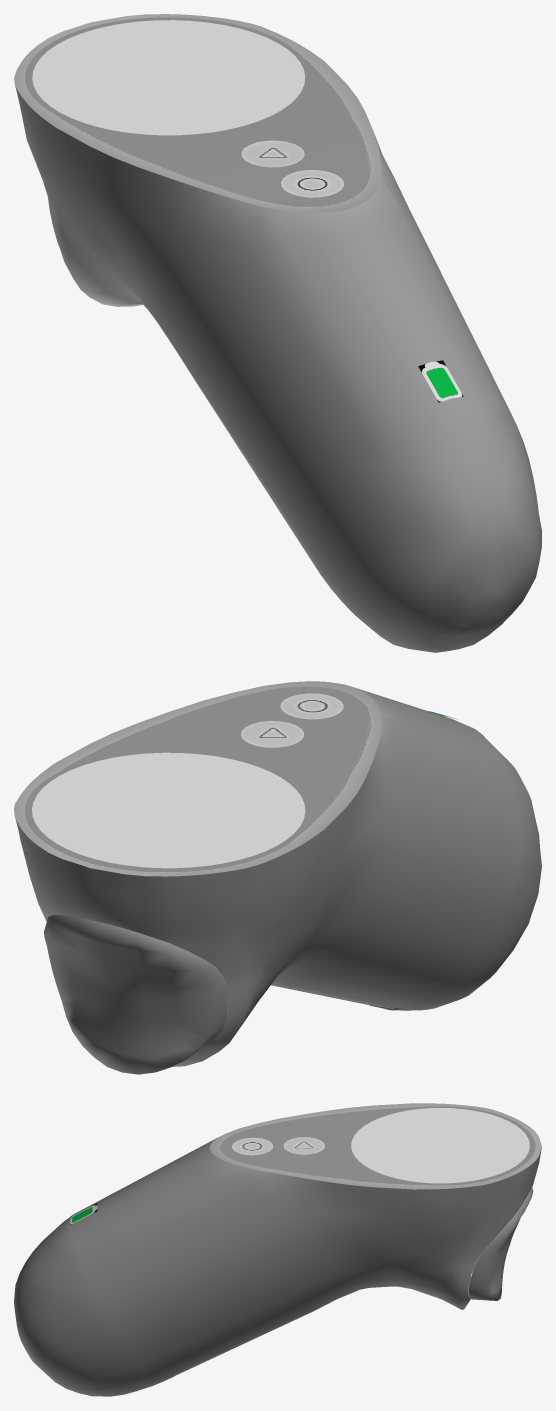
3 renders of one model, top to bottom at view 1: azimuth 30°, elevation 25°; view 2: azimuth 150°, elevation 25°; view 3: azimuth 270°, elevation 25°, orthographic. The views are drawn at different scales.
Parts seen in each view (by area): view 1: objV1o, V1o005, V1o002, V1O电量; view 2: objV1o, V1o005, V1o001, V1o002; view 3: objV1o, V1o005, V1o002, V1o001.
Part boxes in pixels (bbox=[...]): objV1o: bbox=[14, 14, 541, 652]; V1o005: bbox=[32, 20, 305, 135]; V1o002: bbox=[25, 17, 369, 206]; V1O电量: bbox=[418, 360, 463, 402]; objV1o: bbox=[14, 681, 541, 1066]; V1o005: bbox=[32, 752, 305, 868]; V1o001: bbox=[43, 915, 227, 1074]; V1o002: bbox=[24, 686, 370, 871]; objV1o: bbox=[14, 1103, 541, 1396]; V1o005: bbox=[351, 1108, 529, 1183]; V1o002: bbox=[220, 1106, 535, 1185]; V1o001: bbox=[469, 1187, 533, 1300].
Size of the model in its own units: 4.55 by 11.78 by 6.02.
